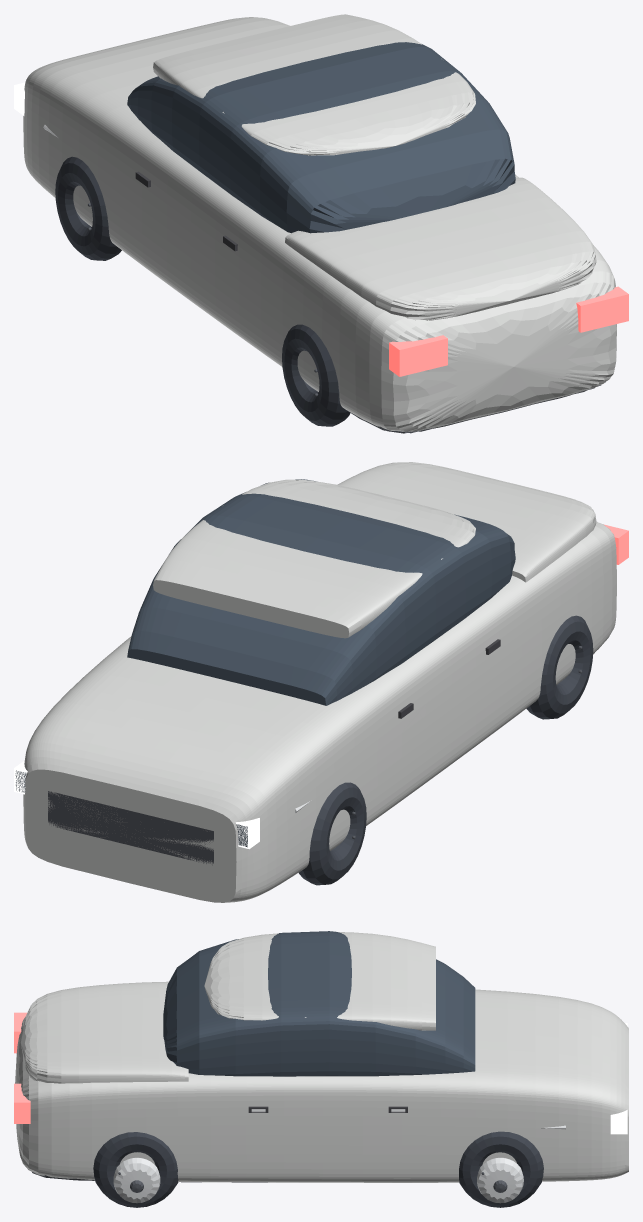
File: carro.glb
The picture shows the model from 3 angles, top to bottom: view 1: azimuth 30°, elevation 25°; view 2: azimuth 150°, elevation 25°; view 3: azimuth 270°, elevation 25°; orthographic projection. The views are drawn at different scales.
Visible parts, largest first — view 1: Sedan, WheelRL, WheelFL; view 2: Sedan, WheelFL, WheelRL; view 3: Sedan, WheelFR, WheelRR.
Part boxes in pixels (x1,y1,x2,y2): Sedan: [14, 14, 628, 433]; WheelRL: [282, 324, 350, 426]; WheelFL: [55, 156, 121, 260]; Sedan: [14, 462, 628, 902]; WheelFL: [298, 782, 366, 885]; WheelRL: [526, 615, 593, 719]; Sedan: [14, 931, 628, 1182]; WheelFR: [459, 1131, 543, 1207]; WheelRR: [93, 1132, 178, 1207].
Size of the model in its own units: 1.86 by 1.5 by 4.4.
